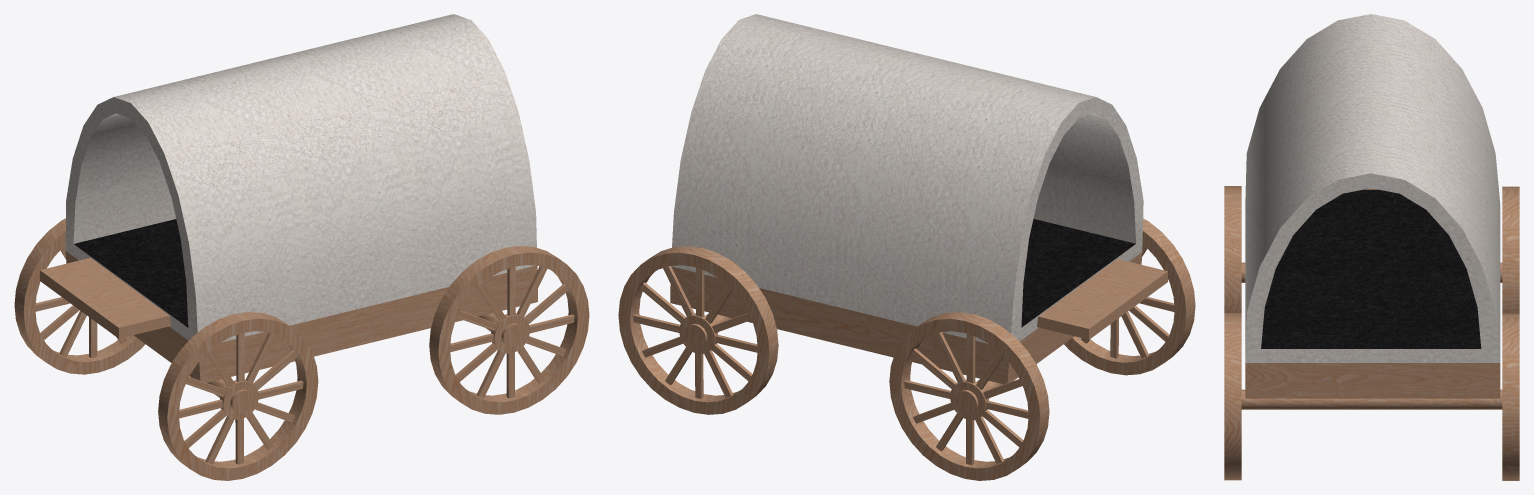
The model's file is SM_Yurt_2.fbx.
3 views of the same model, side by side, from view 1: azimuth 30°, elevation 25°; view 2: azimuth 150°, elevation 25°; view 3: azimuth 270°, elevation 25° (orthographic). The views are drawn at different scales.
Parts seen in each view (by area): view 1: Circle, Cylinder.002; view 2: Circle, Cylinder.002; view 3: Circle, Cylinder.002.
Part boxes in pixels (x1,y1,x2,y2): Circle: (40, 14, 537, 382); Cylinder.002: (14, 218, 589, 480); Circle: (670, 14, 1167, 384); Cylinder.002: (618, 218, 1195, 480); Circle: (1245, 14, 1500, 398); Cylinder.002: (1224, 186, 1519, 480).
Bounding box in the file's own units: 321 × 232 × 198.
